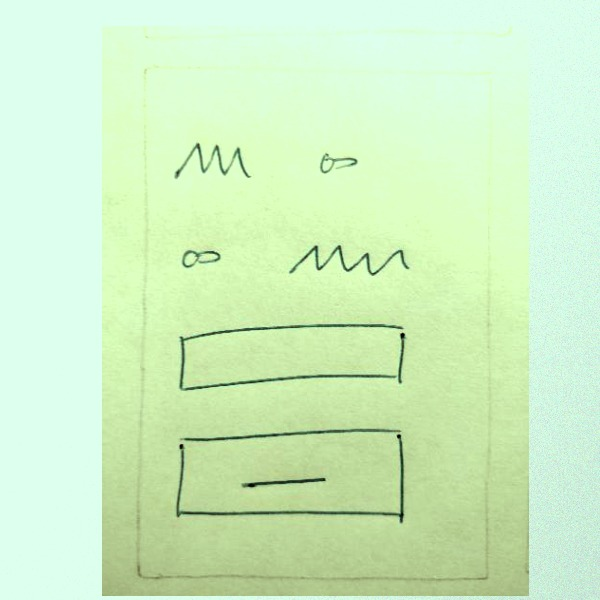button: (159, 422, 417, 528)
switch: (301, 142, 375, 180), (168, 230, 228, 274)
text: (273, 234, 422, 290), (159, 128, 258, 188)
text_input: (160, 314, 416, 390)
